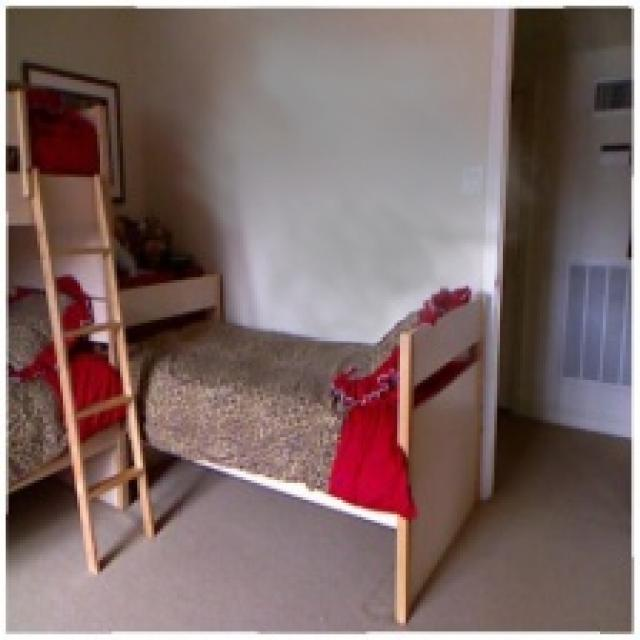smoke: (160, 6, 554, 388)
